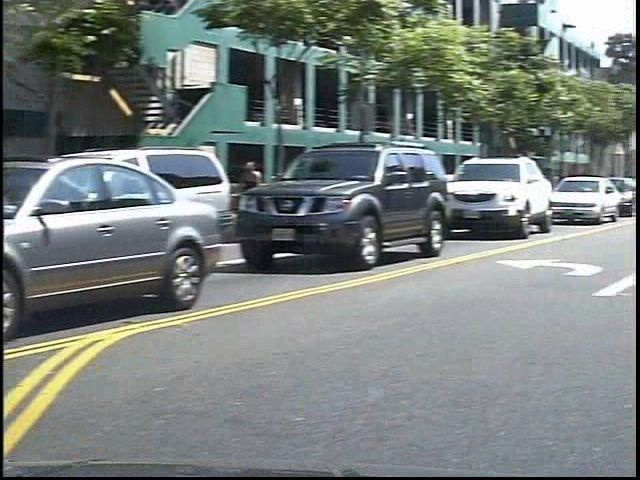person: (252, 154, 281, 232)
